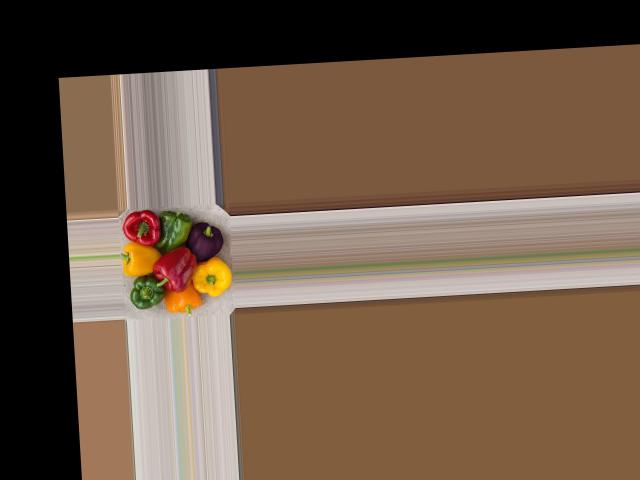bell_pepper: (177, 211, 223, 263)
